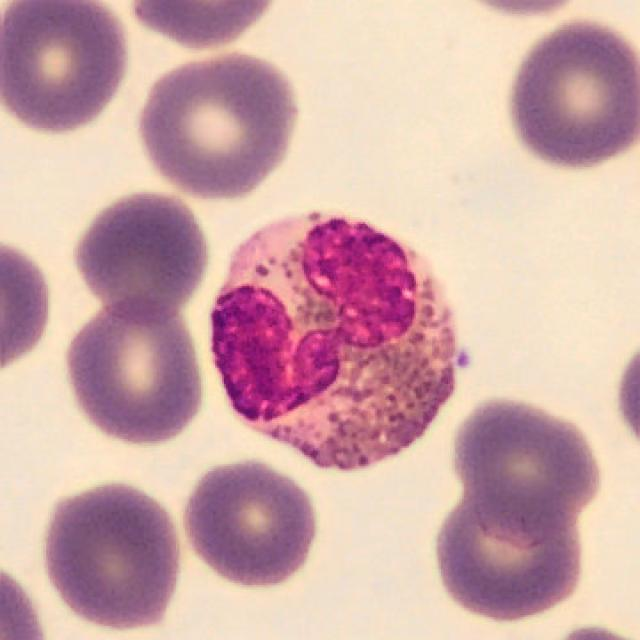Eosinofilo: (208, 212, 462, 471)
